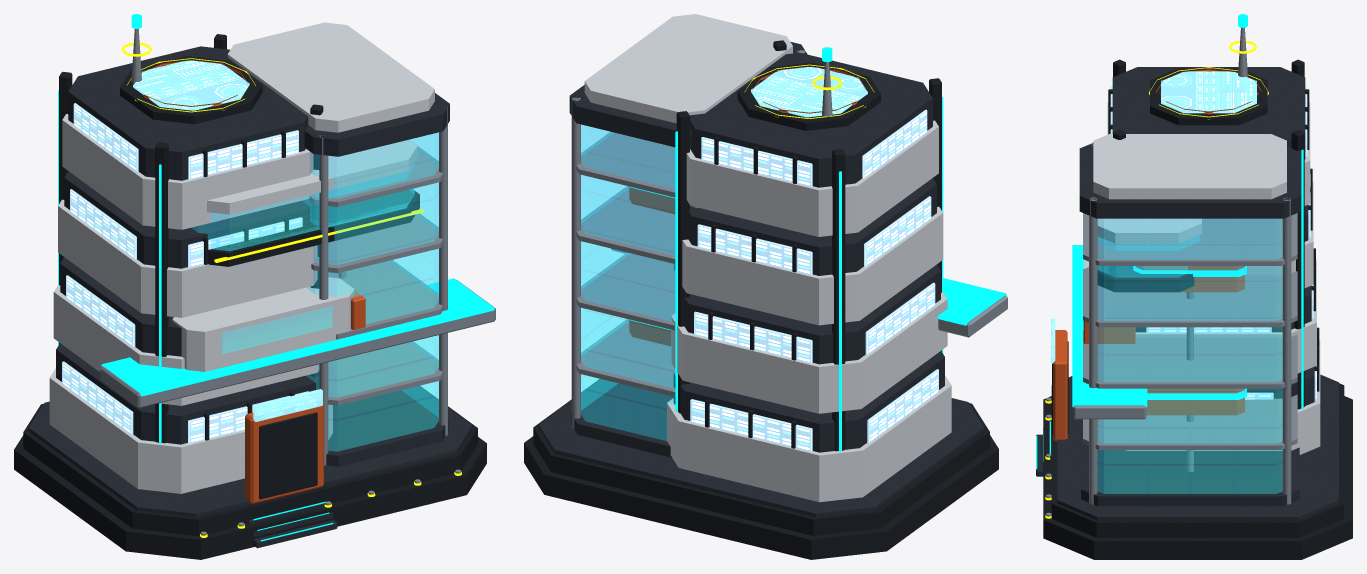
The model's file is bldg_02_r1_05.glb.
3 renders of one model, left to right at view 1: azimuth 30°, elevation 25°; view 2: azimuth 150°, elevation 25°; view 3: azimuth 270°, elevation 25°, orthographic. The views are drawn at different scales.
Visible parts, largest first — view 1: Bldg02_C05_aero_white, Bldg02_C05_carbon_slate, Bldg02_C05_gunmetal, Bldg02_C05_glass_cyan, Bldg02_C05_steel_machined, Bldg02_C05_window_lit, Bldg02_C05_led_cyan, Bldg02_C05_marquee, Bldg02_C05_accent_orange, Bldg02_C05_led_amber; view 2: Bldg02_C05_aero_white, Bldg02_C05_carbon_slate, Bldg02_C05_gunmetal, Bldg02_C05_glass_cyan, Bldg02_C05_steel_machined, Bldg02_C05_window_lit, Bldg02_C05_led_cyan, Bldg02_C05_marquee, Bldg02_C05_accent_orange; view 3: Bldg02_C05_glass_cyan, Bldg02_C05_steel_machined, Bldg02_C05_carbon_slate, Bldg02_C05_gunmetal, Bldg02_C05_aero_white, Bldg02_C05_accent_orange, Bldg02_C05_led_cyan, Bldg02_C05_marquee, Bldg02_C05_window_lit, Bldg02_C05_led_amber.
Boxes of the visible parts, box(x1,y1,x2,y2) form: Bldg02_C05_aero_white: box(49, 22, 434, 493); Bldg02_C05_carbon_slate: box(28, 46, 472, 548); Bldg02_C05_gunmetal: box(14, 34, 486, 559); Bldg02_C05_glass_cyan: box(192, 132, 438, 451); Bldg02_C05_steel_machined: box(100, 28, 495, 535); Bldg02_C05_window_lit: box(62, 103, 308, 443); Bldg02_C05_led_cyan: box(58, 14, 494, 541); Bldg02_C05_marquee: box(133, 60, 322, 421); Bldg02_C05_accent_orange: box(134, 59, 365, 503); Bldg02_C05_led_amber: box(121, 42, 461, 537); Bldg02_C05_aero_white: box(584, 14, 951, 502); Bldg02_C05_carbon_slate: box(538, 41, 984, 517); Bldg02_C05_gunmetal: box(524, 40, 998, 559); Bldg02_C05_glass_cyan: box(581, 124, 674, 440); Bldg02_C05_steel_machined: box(571, 50, 1007, 429); Bldg02_C05_window_lit: box(690, 109, 938, 451); Bldg02_C05_led_cyan: box(630, 47, 1006, 451); Bldg02_C05_marquee: box(751, 66, 867, 117); Bldg02_C05_accent_orange: box(629, 66, 866, 346); Bldg02_C05_glass_cyan: box(1083, 219, 1282, 493); Bldg02_C05_steel_machined: box(1046, 27, 1297, 516); Bldg02_C05_carbon_slate: box(1036, 67, 1338, 520); Bldg02_C05_gunmetal: box(1043, 59, 1352, 559); Bldg02_C05_aero_white: box(1084, 102, 1320, 454); Bldg02_C05_accent_orange: box(1053, 68, 1261, 441); Bldg02_C05_led_cyan: box(1036, 14, 1303, 469); Bldg02_C05_marquee: box(1051, 71, 1256, 363); Bldg02_C05_window_lit: box(1110, 86, 1316, 399); Bldg02_C05_led_amber: box(1045, 40, 1268, 518).
Bounding box in the file's own units: 12.5 × 15.03 × 10.23.
10 materials, 10 textured.
